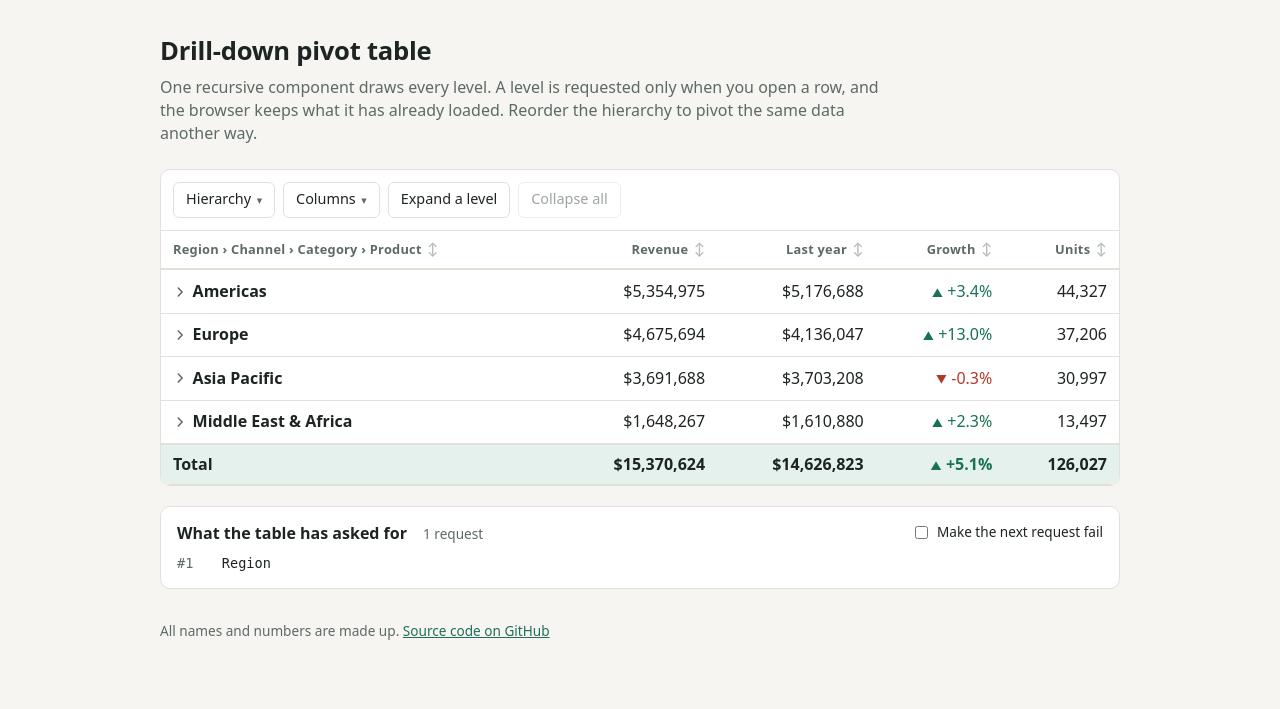
the demo page › can make a request fail, and the table recovers
The image size is (1280, 709).
Expected: the button "Europe" is shown, [169,322,252,348]
Click the checkbox labelled "Make the next request fail" at (921, 532), box [914,526,928,538]
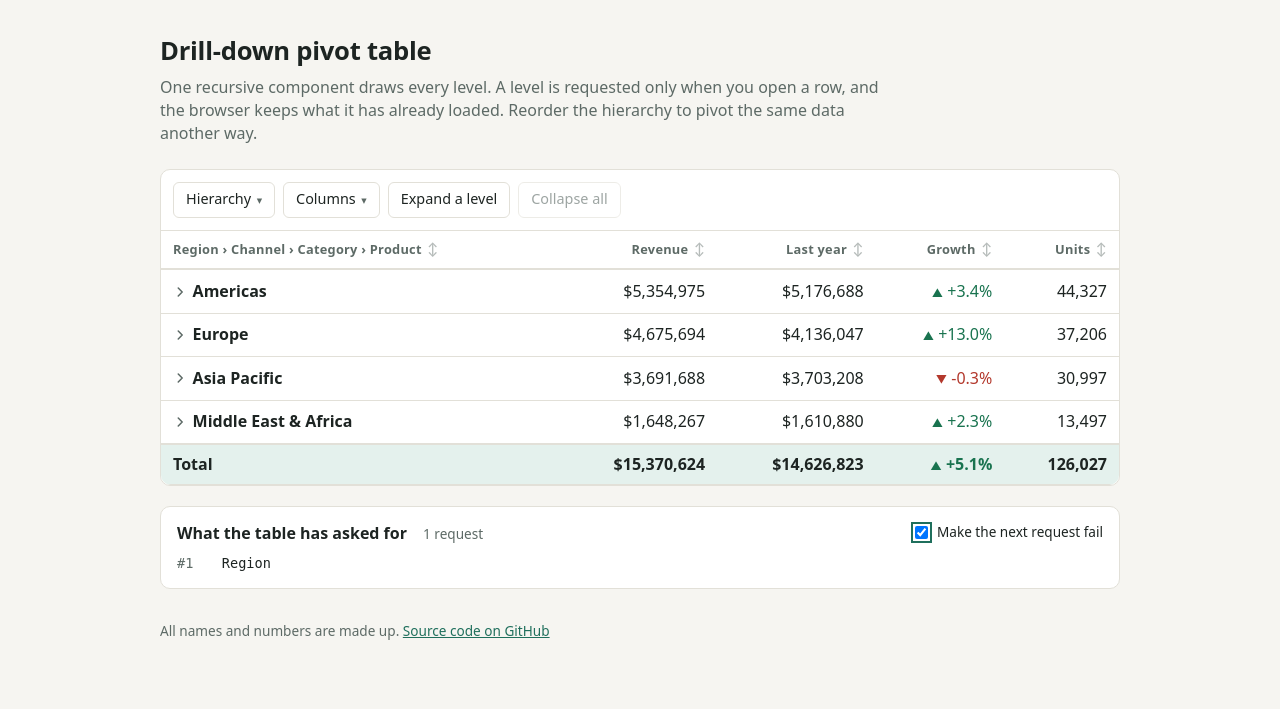
Click the button "Europe" at (211, 335), box [169,322,252,348]
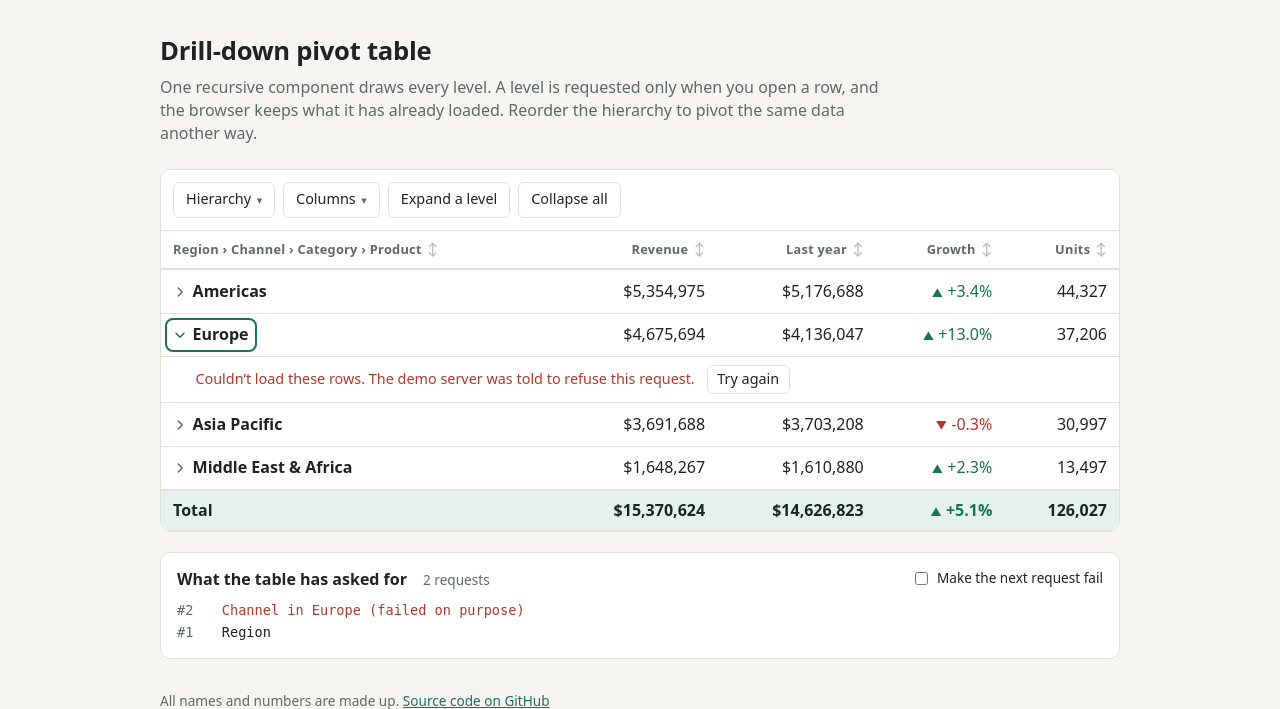
Result: the checkbox labelled "Make the next request fail" is not checked at [914,572,928,585]
Result: the message shows "Couldn’t load these rows." at [195,369,369,388]
Click the button "Try again" at (748, 380), box [707,365,790,394]
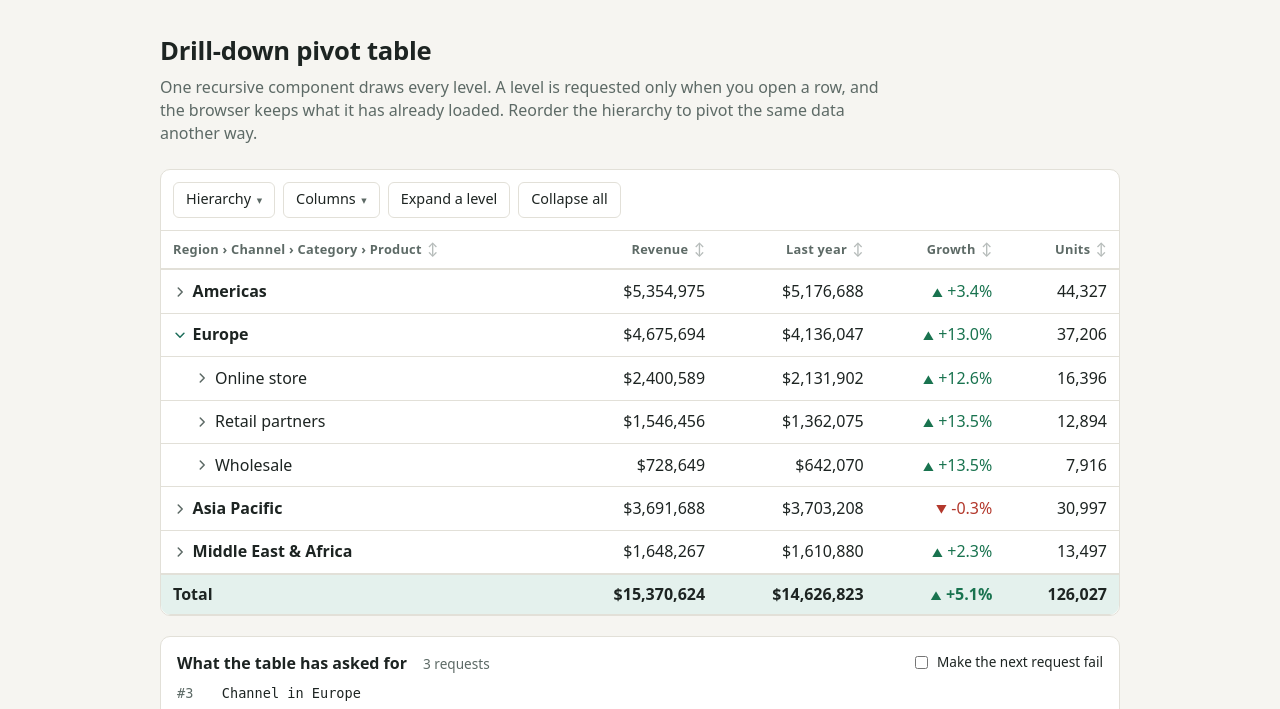
Result: the button "Wholesale" is shown at [191,452,296,478]
